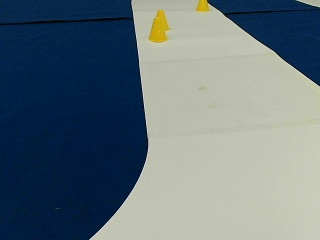cone: (147, 14, 168, 42), (155, 9, 168, 29), (195, 0, 208, 11)
